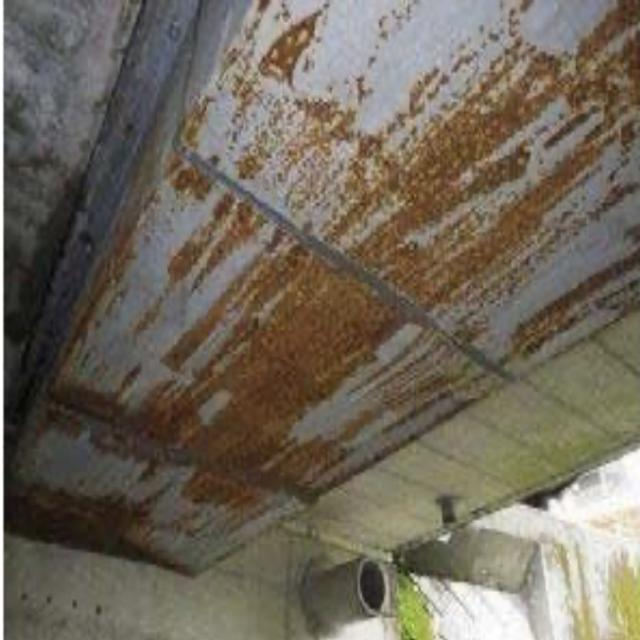corrosion: (13, 8, 636, 576)
